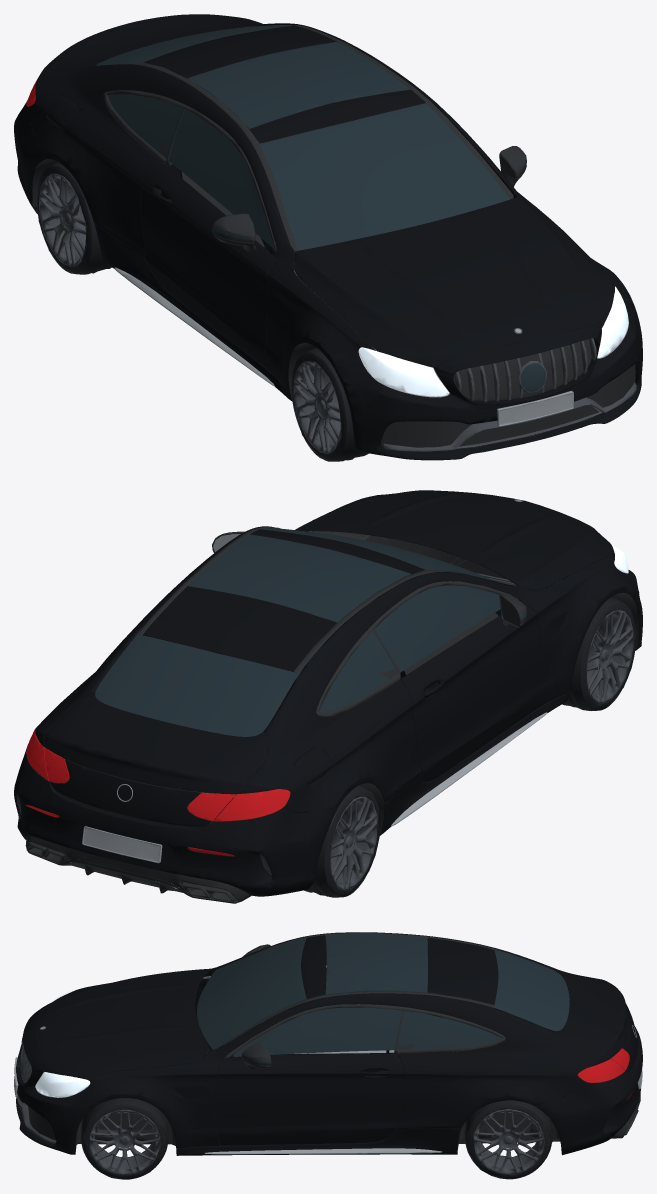
The model's file is hdrp-lab-car-black-lod1.glb.
The picture shows the model from 3 angles, top to bottom: view 1: azimuth 30°, elevation 25°; view 2: azimuth 150°, elevation 25°; view 3: azimuth 270°, elevation 25°; orthographic projection. The views are drawn at different scales.
Parts seen in each view (by area): view 1: HDRPLab_paint, HDRPLab_glass, HDRPLab_trim, HDRPLab_darkmetal, HDRPLab_rubber, HDRPLab_light, HDRPLab_chrome; view 2: HDRPLab_paint, HDRPLab_glass, HDRPLab_trim, HDRPLab_darkmetal, HDRPLab_rubber, HDRPLab_red, HDRPLab_chrome; view 3: HDRPLab_paint, HDRPLab_glass, HDRPLab_trim, HDRPLab_darkmetal, HDRPLab_rubber, HDRPLab_chrome, HDRPLab_light, HDRPLab_red.
Boxes of the visible parts, box(x1,y1,x2,y2) form: HDRPLab_paint: box(14, 14, 642, 460); HDRPLab_glass: box(96, 25, 545, 391); HDRPLab_trim: box(32, 25, 635, 447); HDRPLab_darkmetal: box(39, 173, 636, 453); HDRPLab_rubber: box(37, 162, 368, 461); HDRPLab_light: box(358, 286, 628, 396); HDRPLab_chrome: box(114, 267, 628, 426); HDRPLab_paint: box(14, 490, 642, 896); HDRPLab_glass: box(95, 528, 526, 736); HDRPLab_trim: box(16, 527, 638, 903); HDRPLab_darkmetal: box(308, 499, 633, 889); HDRPLab_rubber: box(304, 597, 636, 897); HDRPLab_red: box(26, 729, 290, 856); HDRPLab_chrome: box(82, 499, 628, 863); HDRPLab_paint: box(16, 932, 642, 1155); HDRPLab_glass: box(18, 934, 569, 1064); HDRPLab_trim: box(23, 932, 640, 1151); HDRPLab_darkmetal: box(16, 977, 544, 1174); HDRPLab_rubber: box(81, 1098, 553, 1179); HDRPLab_chrome: box(14, 976, 642, 1154); HDRPLab_light: box(35, 987, 90, 1097); HDRPLab_red: box(577, 1048, 633, 1100).
Bounding box in the file's own units: 2.02 × 1.4 × 4.72.
